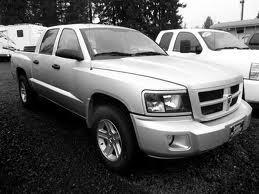car: (10, 20, 256, 171)
